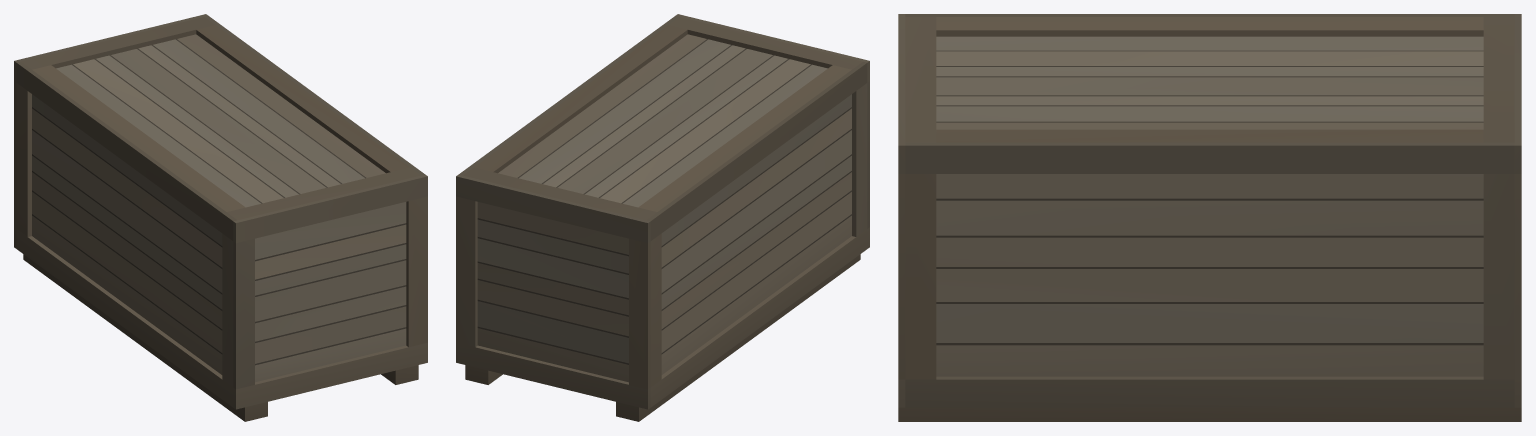
The model's file is crate.wood_long.weathered.glb.
The picture shows the model from 3 angles, left to right: view 1: azimuth 30°, elevation 25°; view 2: azimuth 150°, elevation 25°; view 3: azimuth 270°, elevation 25°; orthographic projection. The views are drawn at different scales.
Parts seen in each view (by area): view 1: crate_wood_long_weathered; view 2: crate_wood_long_weathered; view 3: crate_wood_long_weathered.
Boxes of the visible parts, x1=… form: crate_wood_long_weathered: x1=14, y1=14, x2=427, y2=421; crate_wood_long_weathered: x1=456, y1=14, x2=869, y2=421; crate_wood_long_weathered: x1=898, y1=14, x2=1521, y2=421.
Size of what is drawn, in the model's own units: 1.1 by 1.1 by 2.2.
